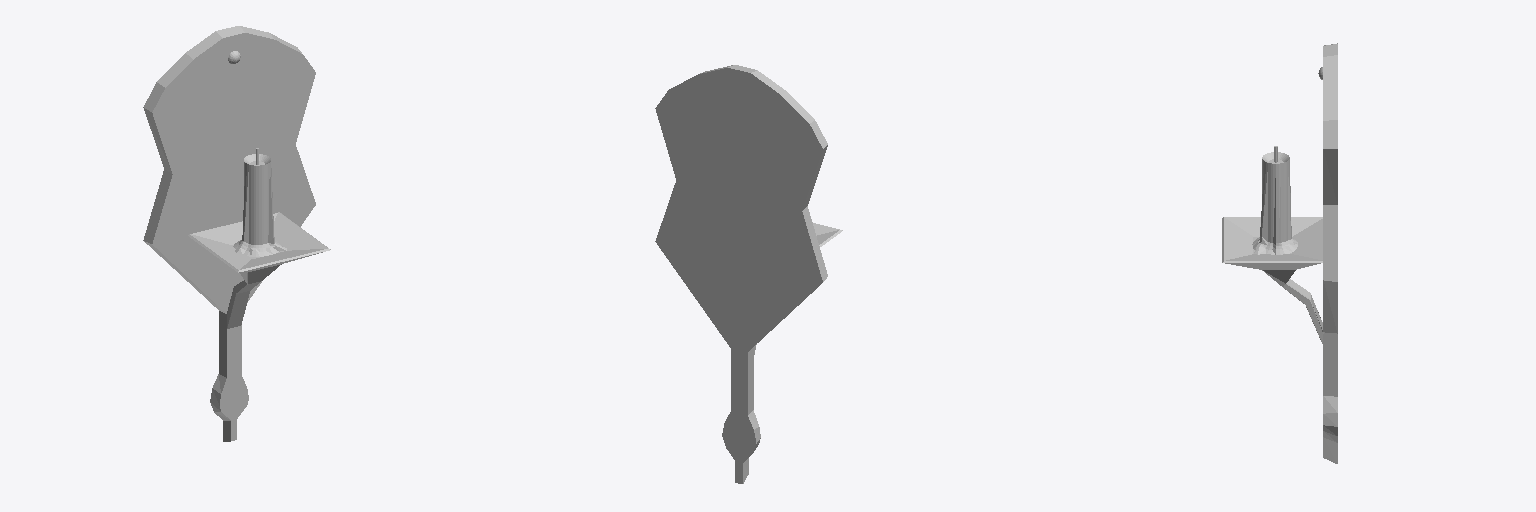
The model's file is WallMountCandle.obj.
3 renders of one model, left to right at view 1: azimuth 30°, elevation 25°; view 2: azimuth 150°, elevation 25°; view 3: azimuth 270°, elevation 25°, orthographic.
Visible parts, largest first — view 1: WoodenMount_WoodenMount, Candle_Candle; view 2: WoodenMount_WoodenMount; view 3: WoodenMount_WoodenMount, Candle_Candle.
Boxes of the visible parts, <box> form: WoodenMount_WoodenMount: <box>143,26,330,441</box>; Candle_Candle: <box>233,148,286,256</box>; WoodenMount_WoodenMount: <box>655,65,842,483</box>; WoodenMount_WoodenMount: <box>1222,43,1337,463</box>; Candle_Candle: <box>1252,146,1297,254</box>.
Bounding box in the file's own units: 19.82 × 46.6 × 11.76.